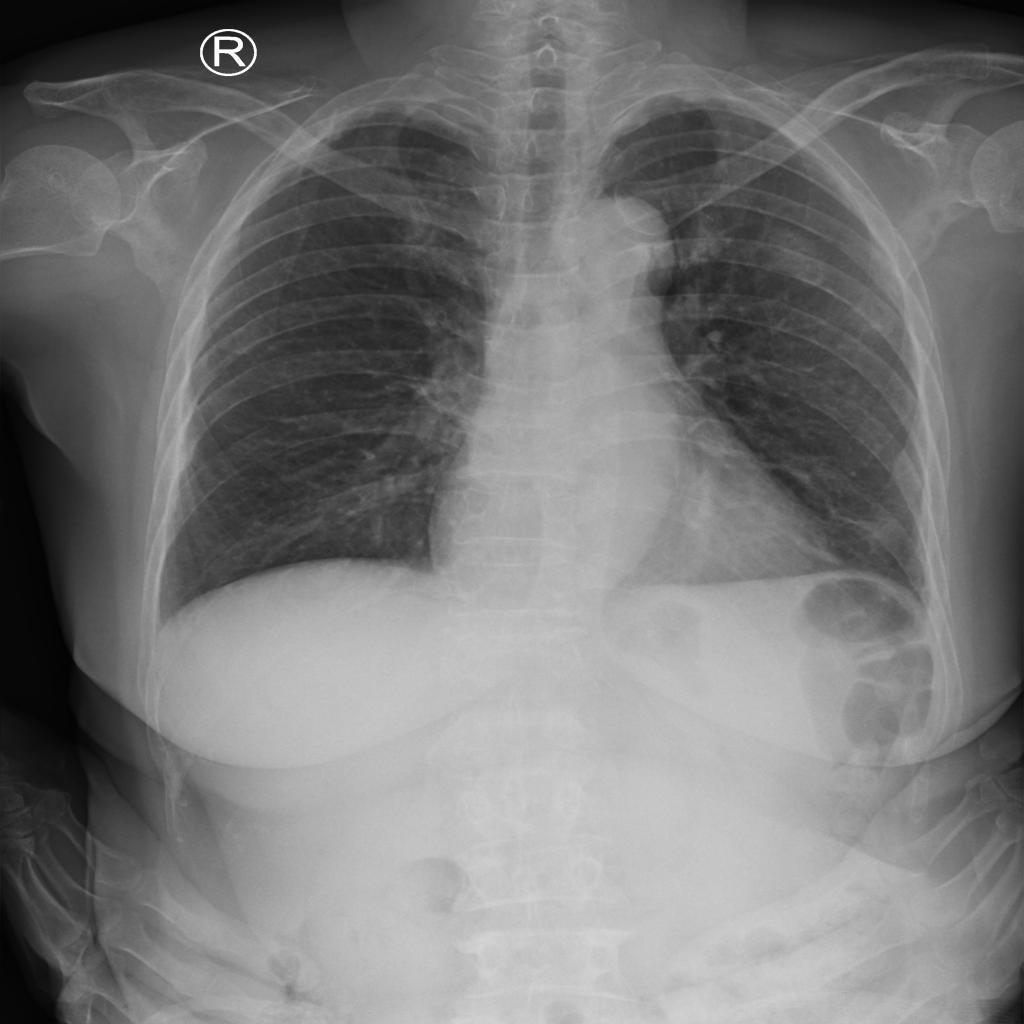Nodule: (749, 224, 834, 296)
